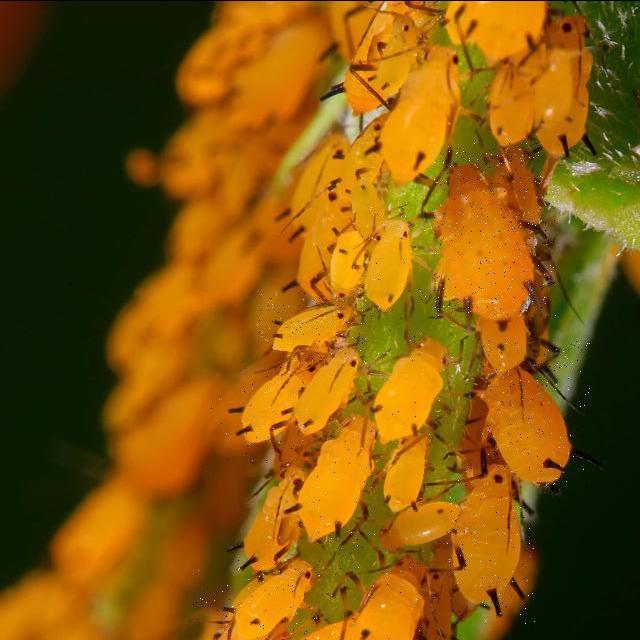aphid: (433, 142, 556, 316), (482, 340, 590, 496), (446, 466, 536, 624), (297, 401, 384, 560), (211, 340, 307, 462), (193, 558, 327, 640), (374, 329, 458, 438), (256, 290, 372, 364), (353, 206, 426, 316), (335, 561, 434, 640)
